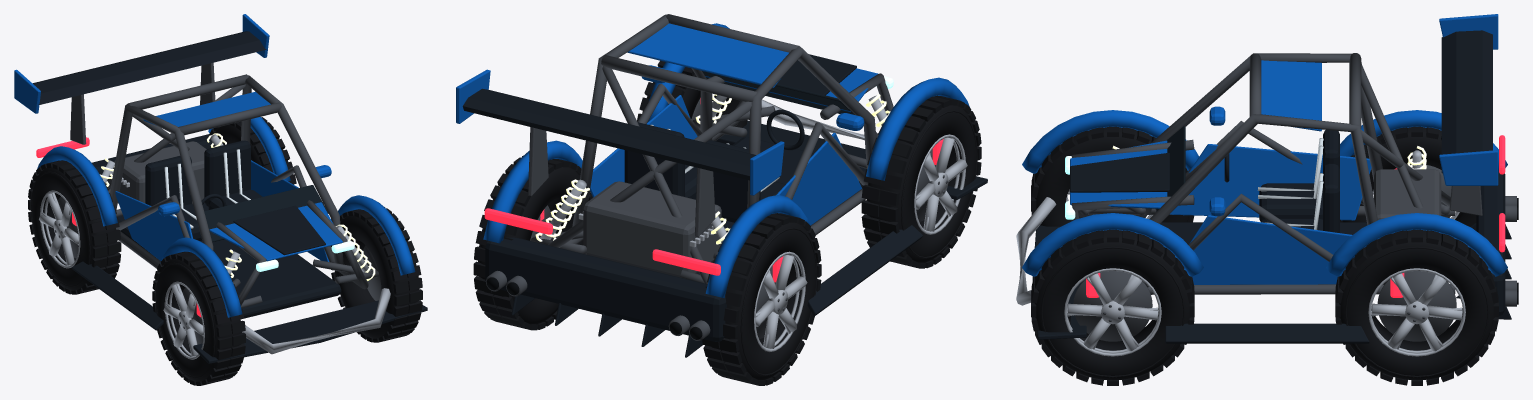
Rendered from skylark.glb.
The picture shows the model from 3 angles, left to right: view 1: azimuth 30°, elevation 25°; view 2: azimuth 150°, elevation 25°; view 3: azimuth 270°, elevation 25°; orthographic projection. The views are drawn at different scales.
Visible parts, largest first — view 1: body, wheel_fl_spin_mesh, wheel_rl_spin_mesh, wheel_fr_spin_mesh, wheel_rr_spin_mesh; view 2: body, wheel_rl_spin_mesh, wheel_fl_spin_mesh, wheel_rr_spin_mesh, wheel_fr_spin_mesh; view 3: body, wheel_rr_spin_mesh, wheel_fr_spin_mesh, wheel_fl_spin_mesh, wheel_rl_spin_mesh.
Part boxes in pixels (left/top/right/bottom): body: left=14, top=14, right=427, bottom=363; wheel_fl_spin_mesh: left=152, top=251, right=245, bottom=385; wheel_rl_spin_mesh: left=28, top=160, right=121, bottom=294; wheel_fr_spin_mesh: left=331, top=207, right=422, bottom=342; wheel_rr_spin_mesh: left=209, top=117, right=296, bottom=184; body: left=456, top=14, right=987, bottom=357; wheel_rl_spin_mesh: left=702, top=213, right=821, bottom=385; wheel_fl_spin_mesh: left=861, top=95, right=981, bottom=268; wheel_rr_spin_mesh: left=473, top=155, right=592, bottom=330; wheel_fr_spin_mesh: left=637, top=60, right=749, bottom=127; body: left=1016, top=14, right=1518, bottom=343; wheel_rr_spin_mesh: left=1335, top=229, right=1498, bottom=385; wheel_fr_spin_mesh: left=1031, top=229, right=1194, bottom=385; wheel_fl_spin_mesh: left=1031, top=126, right=1194, bottom=230; wheel_rl_spin_mesh: left=1340, top=126, right=1476, bottom=226.
Size of the model in its own units: 2.47 by 2.03 by 3.81.
